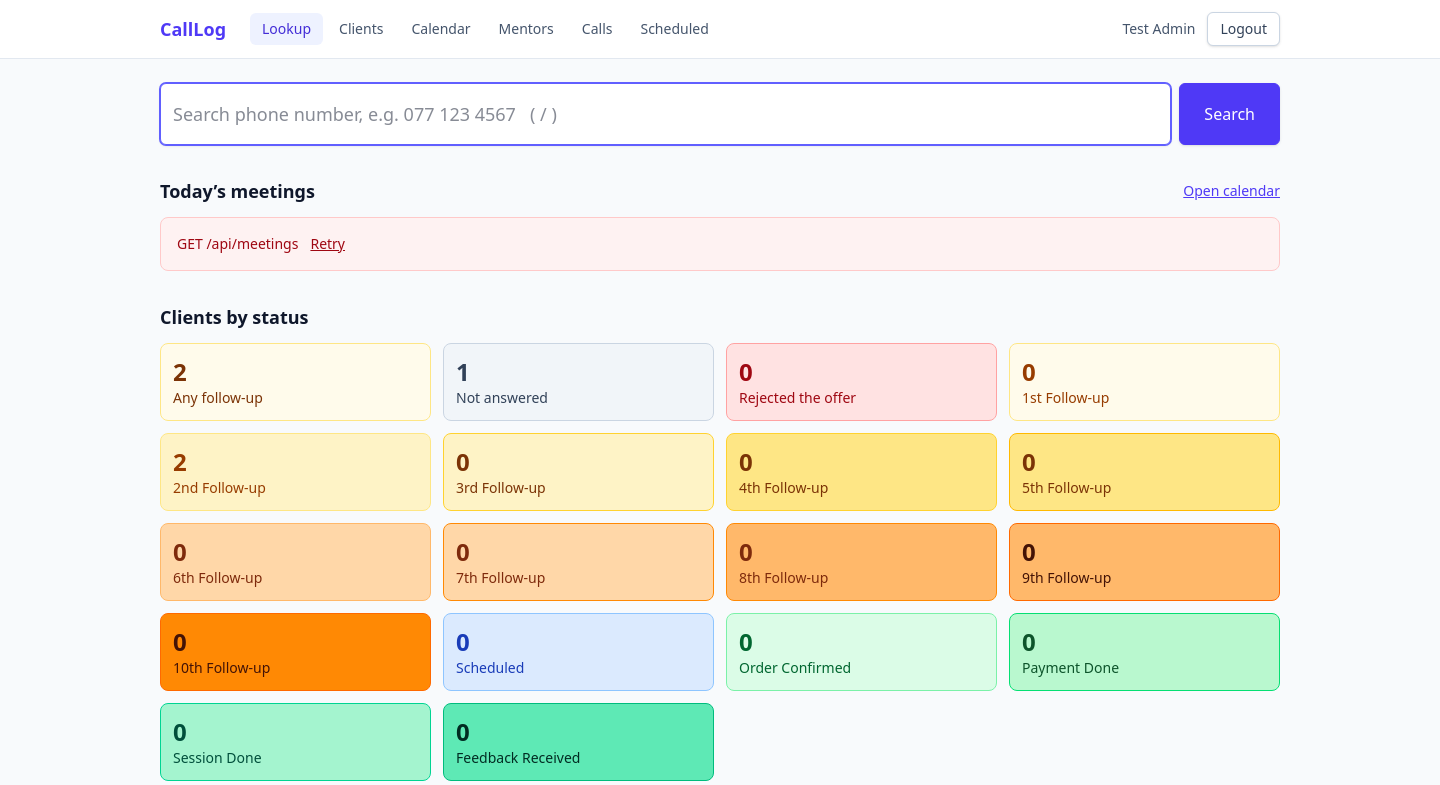
it: lookup flow › shows a friendly error for an invalid number
Type "abc" into the field labelled "phone number" at (666,114), box [160, 83, 1171, 145]
Then press Enter
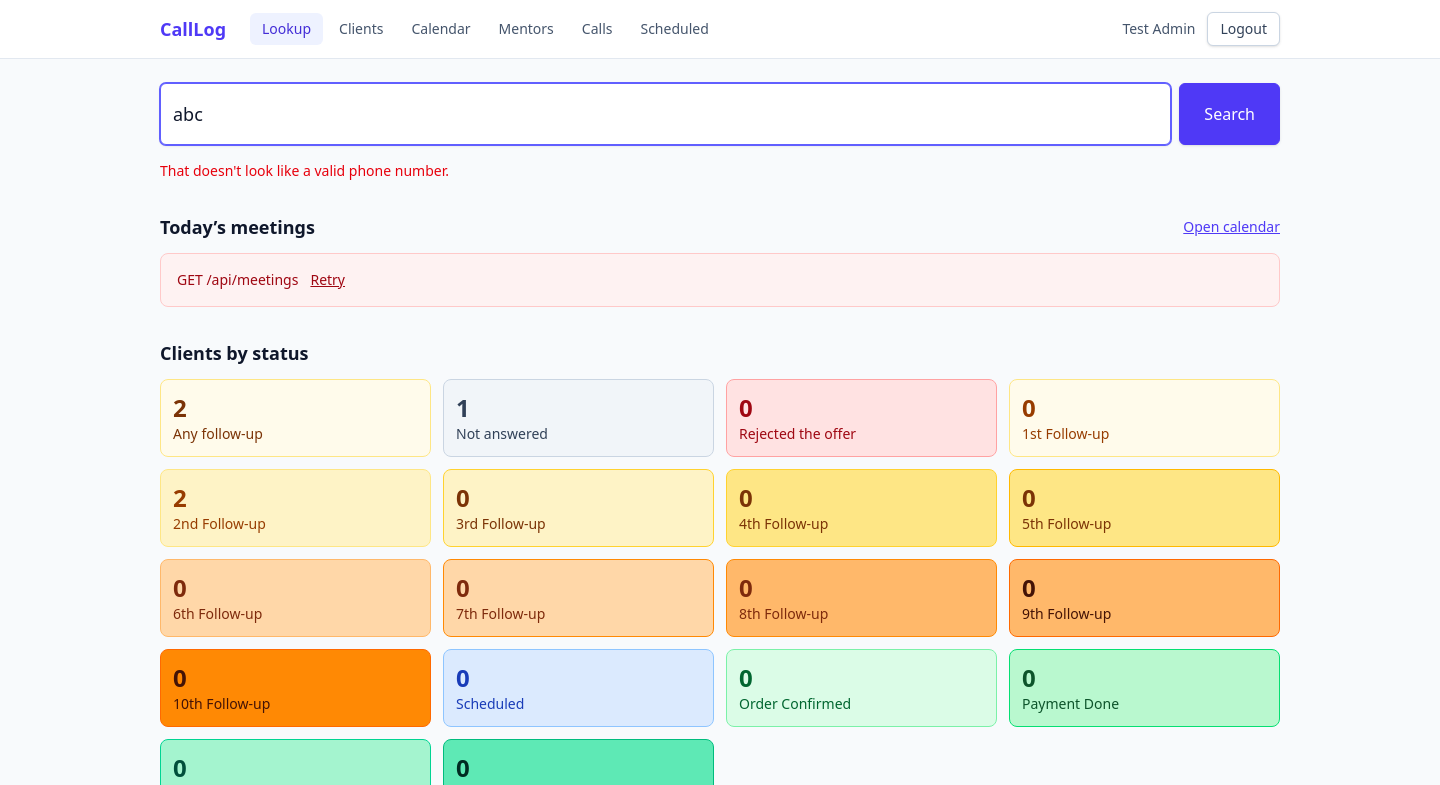
Expected: the text "That doesn't look like a valid phone number." is shown, [160, 161, 449, 180]
